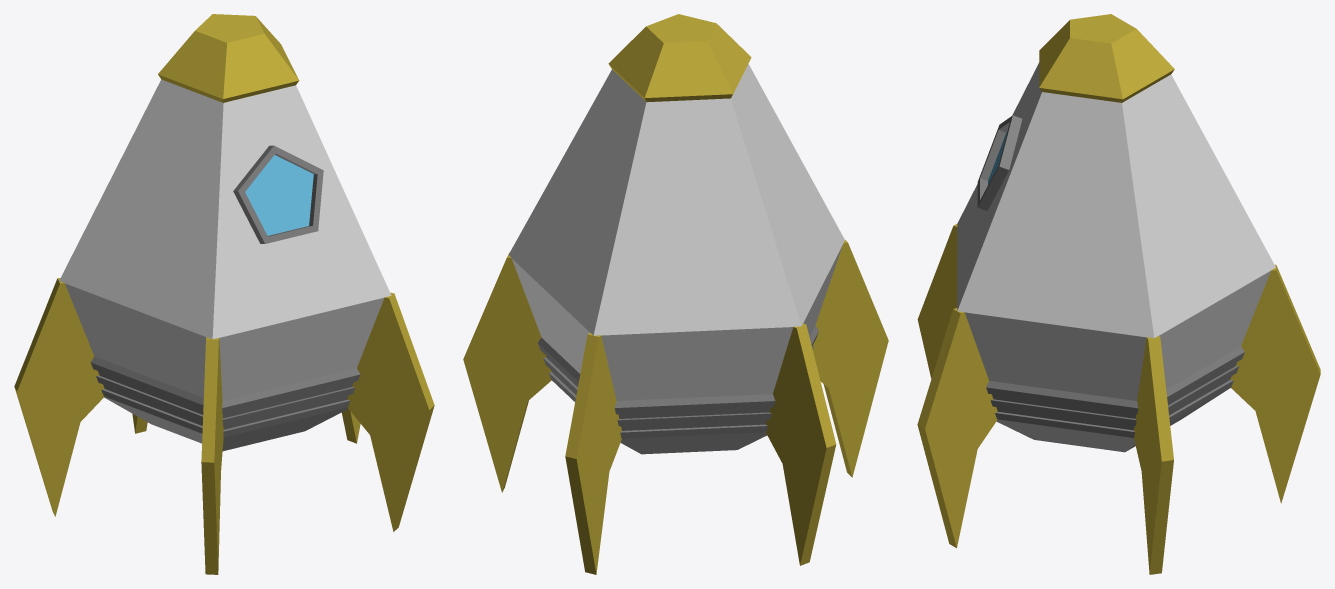
The model's file is RocketYellow.fbx.
3 renders of one model, left to right at view 1: azimuth 30°, elevation 25°; view 2: azimuth 150°, elevation 25°; view 3: azimuth 270°, elevation 25°, orthographic.
Visible parts, largest first — view 1: Rocket; view 2: Rocket; view 3: Rocket.
Part boxes in pixels (box(x1,y1,x2,y2)): Rocket: box(14, 14, 434, 574); Rocket: box(463, 14, 888, 574); Rocket: box(917, 14, 1320, 574).
Size of the model in its own units: 327 by 402 by 311.
